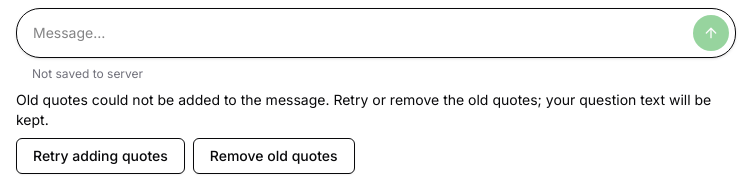
it: lets the user explicitly remove legacy contexts that exceed the limit without losing the question
Check: the message is shown, box [16,90,736,174]
Check: the button named "Send" is disabled, box [693,15,729,51]
In the text box labelled "Message": (359, 33) [33,15,685,51], type "Keep this question"
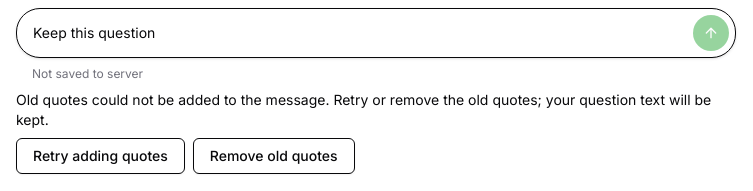
Click the button "Remove old quotes": (274, 156) [193,138,355,174]
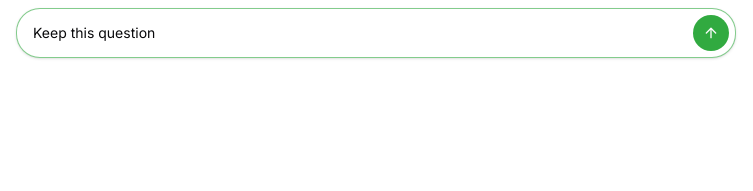
Check: the button named "Send" is enabled, box [693,15,729,51]
